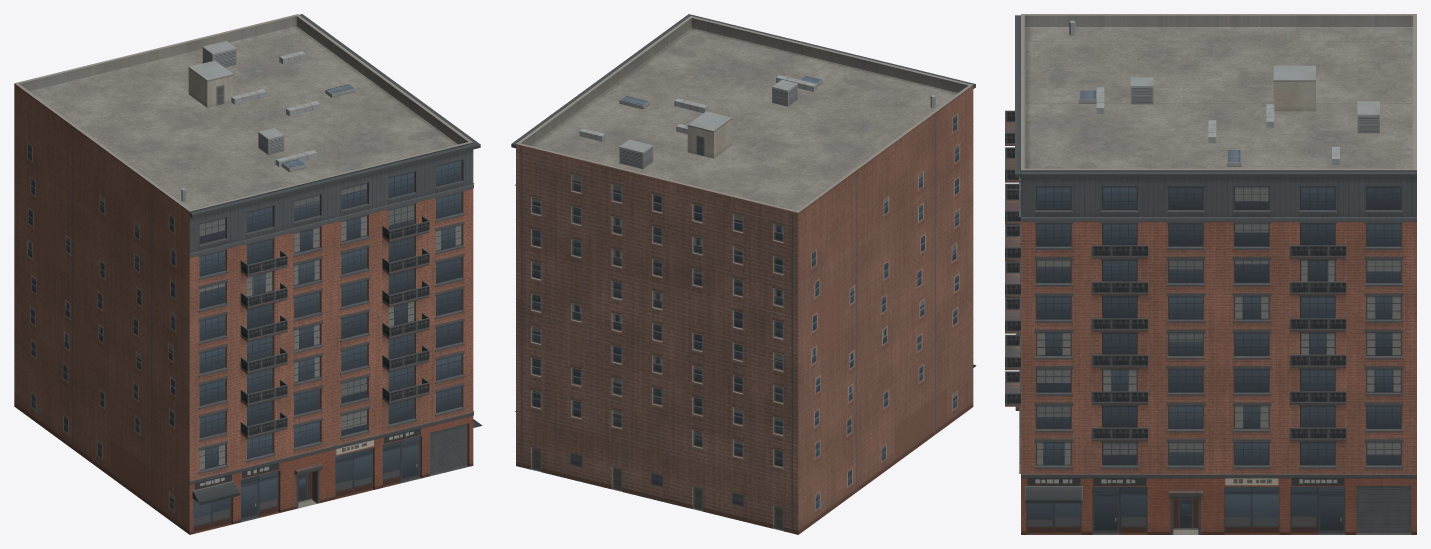
File: sf_apartment_d.glb
3 renders of one model, left to right at view 1: azimuth 30°, elevation 25°; view 2: azimuth 150°, elevation 25°; view 3: azimuth 270°, elevation 25°, orthographic. The views are drawn at different scales.
Visible parts, largest first — view 1: sf_apartment_d; view 2: sf_apartment_d; view 3: sf_apartment_d.
Part boxes in pixels (left/top/right/bottom): sf_apartment_d: left=14, top=14, right=482, bottom=534; sf_apartment_d: left=511, top=14, right=976, bottom=534; sf_apartment_d: left=1005, top=14, right=1416, bottom=534.
Bounding box in the file's own units: 29.2 × 32.15 × 31.2.
Materials: 1 (1 with a texture image).
